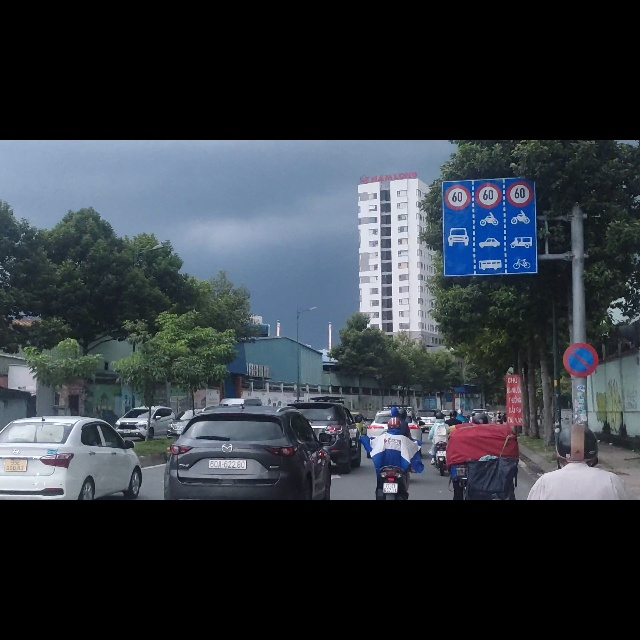bien_cam: (443, 121, 536, 239), (563, 361, 599, 420), (444, 79, 470, 124), (475, 76, 501, 121), (507, 72, 533, 117)
